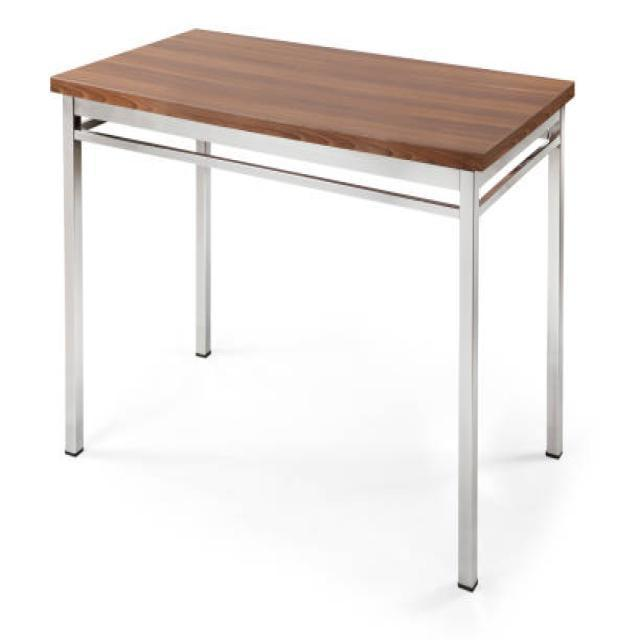table: (49, 24, 575, 592)
